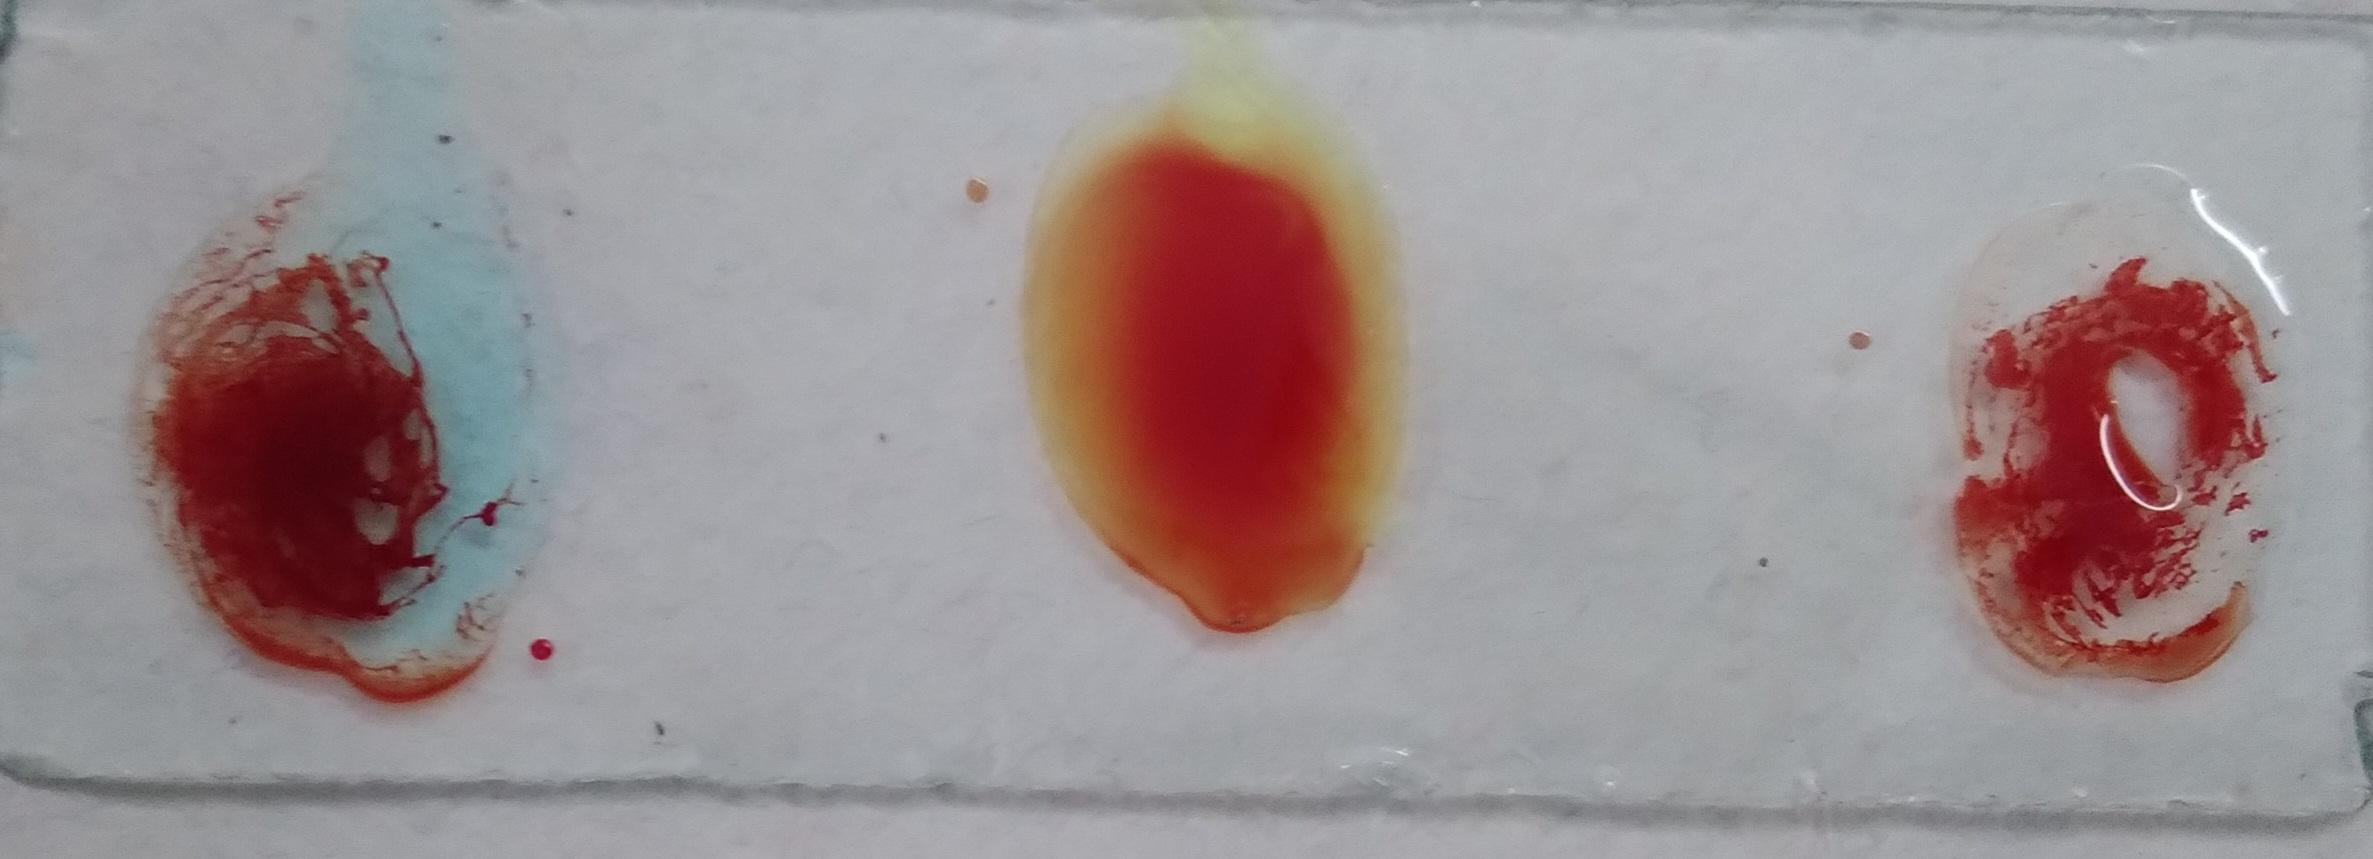A: (1802, 160, 2226, 726)
D: (83, 172, 440, 637)
